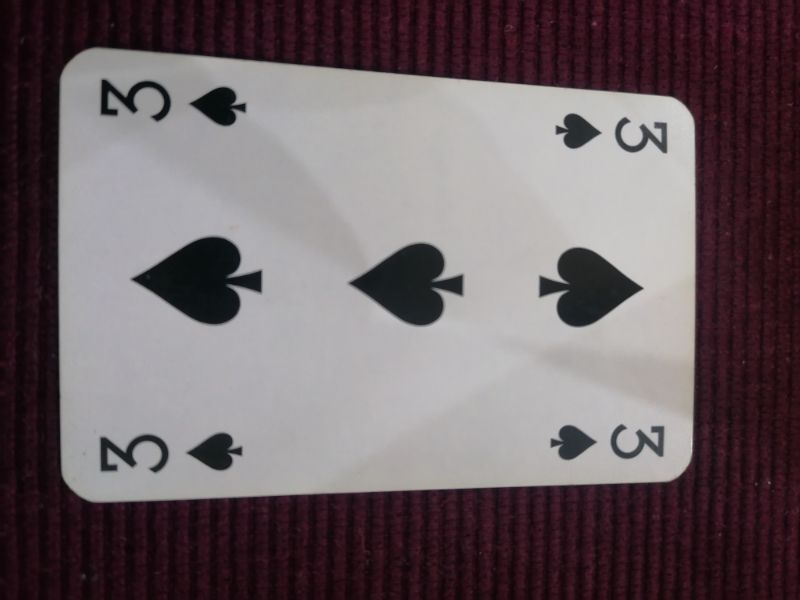3s: (94, 72, 249, 131), (97, 427, 248, 477), (554, 107, 672, 160), (549, 417, 667, 463)
